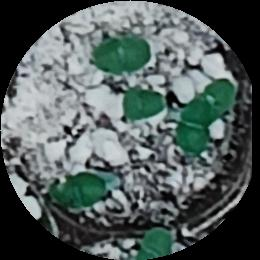Basil: (93, 35, 156, 78), (56, 171, 111, 206), (196, 79, 236, 120), (121, 86, 167, 119), (139, 224, 176, 260), (180, 103, 206, 153)
